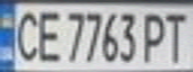3: (118, 8, 142, 63)
6: (100, 8, 121, 63)
7: (60, 7, 84, 63), (81, 8, 103, 63)
C: (9, 6, 42, 63)
E: (33, 7, 63, 63)
P: (139, 8, 172, 64)
T: (160, 8, 193, 64)
